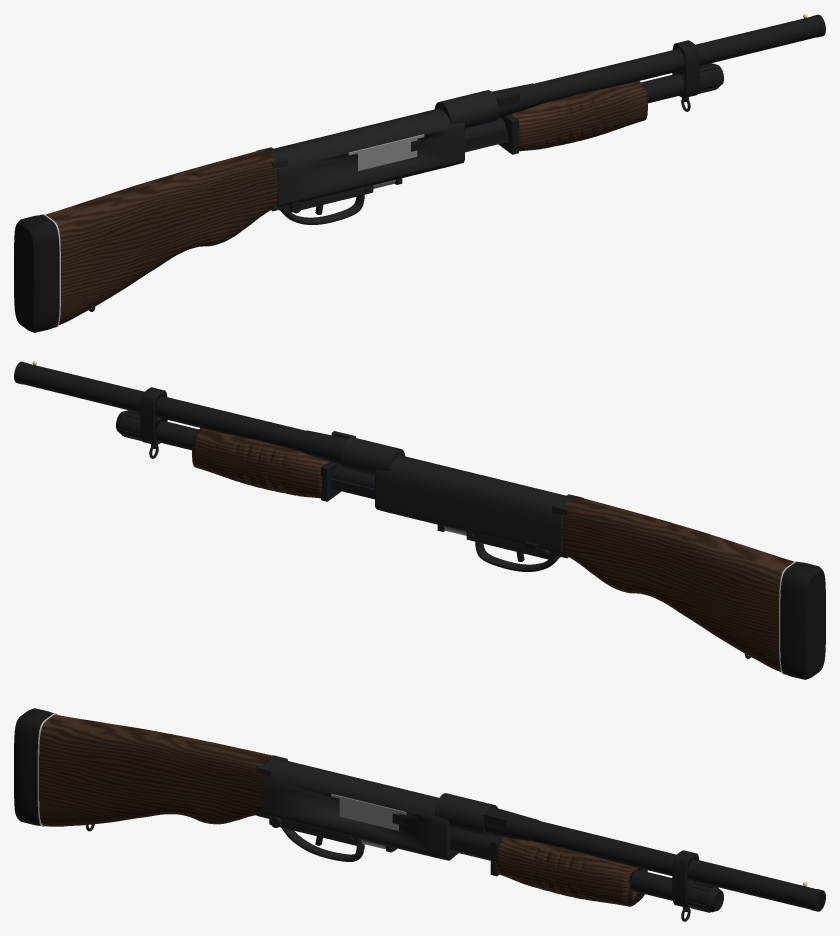
The model's file is shotgun.glb.
The picture shows the model from 3 angles, top to bottom: view 1: azimuth 30°, elevation 25°; view 2: azimuth 150°, elevation 25°; view 3: azimuth 330°, elevation 25°; orthographic projection.
Parts seen in each view (by area): view 1: Stock, Receiver, Barrel, Forend, RecoilPad, BarrelExt, MagTube, Bolt, BarrelBand, Chamber, TriggerGuard, TrigPlate; view 2: Stock, Receiver, Barrel, Forend, RecoilPad, BarrelExt, MagTube, Chamber, BarrelBand, TriggerGuard, TrigPlate; view 3: Stock, Receiver, Forend, Barrel, RecoilPad, BarrelExt, MagTube, Bolt, Chamber, BarrelBand, TriggerGuard, TrigPlate (+1 smaller).
Boxes of the visible parts, x1,y1,x2,y2 form: Stock: [45, 149, 277, 324]; Receiver: [266, 108, 464, 206]; Barrel: [534, 16, 820, 104]; Forend: [510, 81, 647, 151]; RecoilPad: [14, 215, 59, 332]; BarrelExt: [434, 90, 498, 128]; MagTube: [465, 73, 684, 141]; Bolt: [348, 134, 424, 170]; BarrelBand: [672, 40, 699, 98]; Chamber: [492, 83, 540, 117]; TriggerGuard: [281, 195, 364, 224]; TrigPlate: [279, 184, 373, 213]; Stock: [562, 496, 794, 671]; Receiver: [375, 455, 573, 553]; Barrel: [19, 363, 305, 451]; Forend: [192, 428, 329, 498]; RecoilPad: [780, 562, 825, 679]; BarrelExt: [341, 437, 405, 475]; MagTube: [155, 420, 374, 488]; Chamber: [299, 430, 347, 464]; BarrelBand: [140, 387, 167, 445]; TriggerGuard: [475, 542, 558, 571]; TrigPlate: [466, 531, 560, 560]; Stock: [39, 714, 275, 826]; Receiver: [260, 757, 458, 860]; Forend: [495, 837, 647, 906]; Barrel: [529, 820, 815, 909]; RecoilPad: [14, 708, 53, 825]; BarrelExt: [434, 793, 497, 836]; MagTube: [451, 828, 672, 900]; Bolt: [331, 793, 406, 830]; Chamber: [484, 807, 538, 840]; BarrelBand: [672, 850, 699, 908]; TriggerGuard: [281, 827, 364, 861]; TrigPlate: [269, 817, 361, 845].
Bounding box in the file's own units: 1.02 × 0.153 × 0.058.
8 materials, 2 textured.
